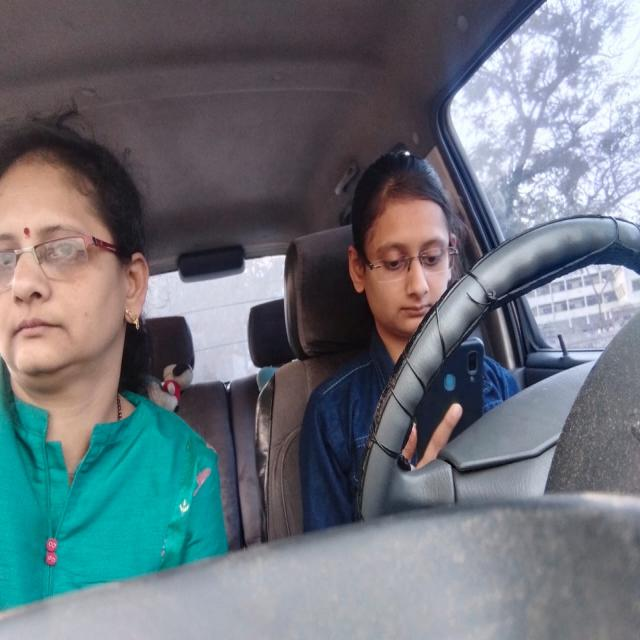mobile: (420, 351, 485, 461)
person: (0, 144, 140, 375), (357, 135, 453, 332)
